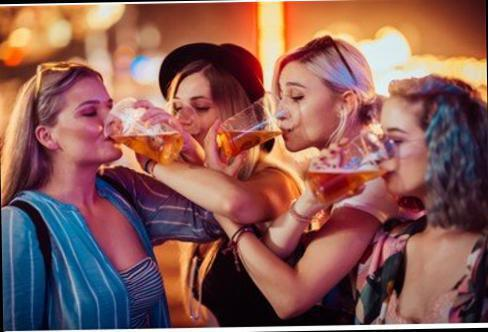Drunk: (272, 64, 342, 154), (50, 78, 122, 163)
